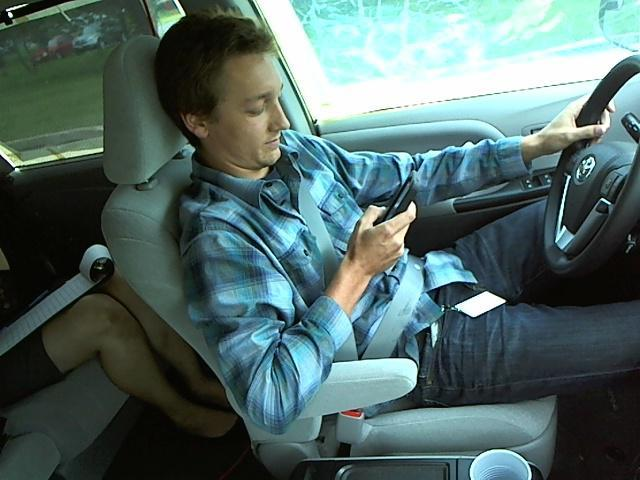PhoneUse: (372, 159, 420, 252)
